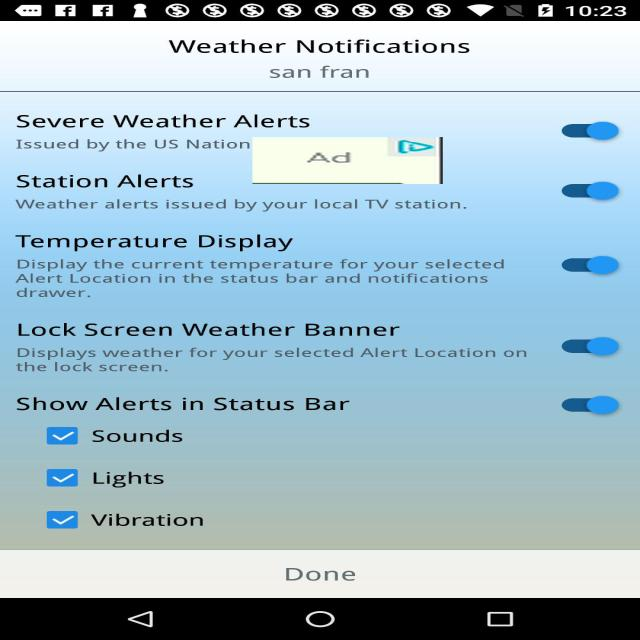sneaking: (252, 137, 442, 184)
